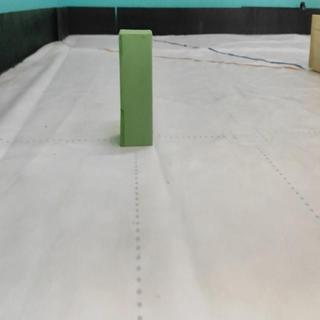greenbox: (117, 28, 156, 146)
